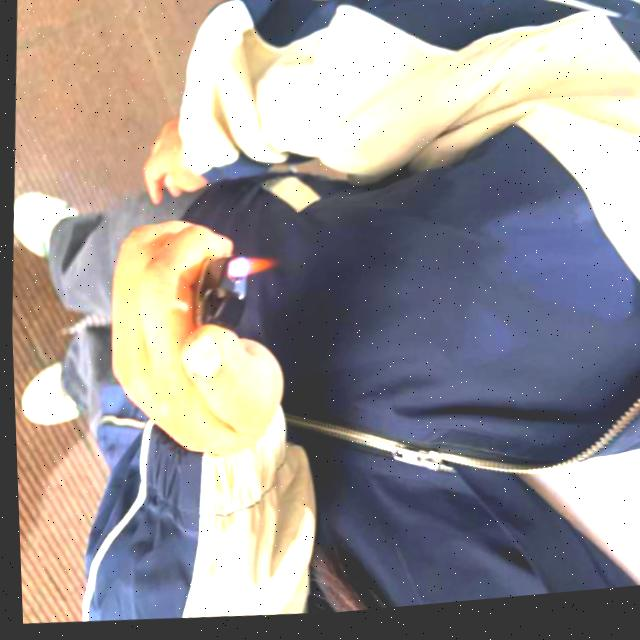Fire: (224, 259, 274, 286)
